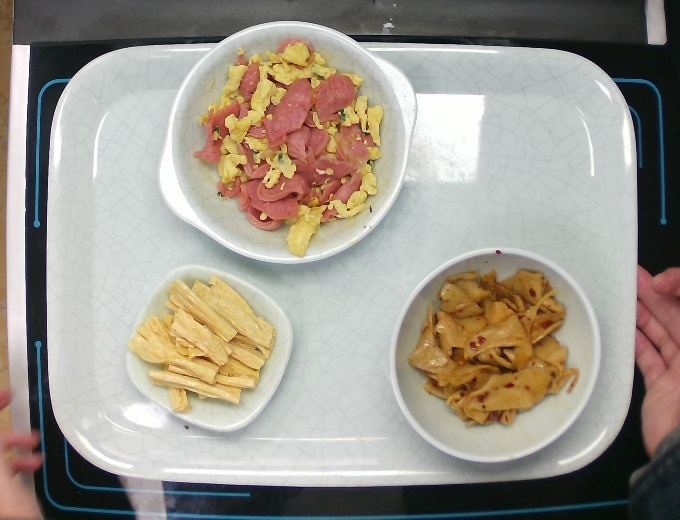JYsf-Fan_Wan: (384, 243, 605, 467)
JYsf-Shuang_Er_Wan: (156, 18, 421, 268)
JYsf-Si_Fang_Die: (122, 261, 297, 434)
